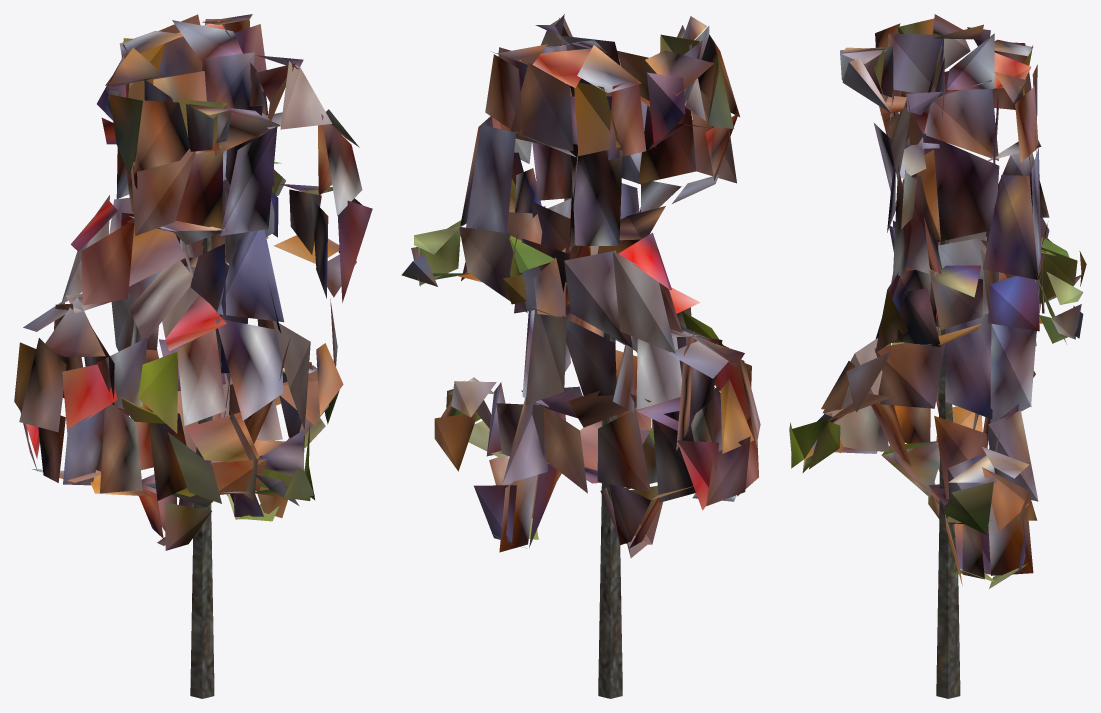
File: Tree11.fbx
3 renders of one model, left to right at view 1: azimuth 30°, elevation 25°; view 2: azimuth 150°, elevation 25°; view 3: azimuth 270°, elevation 25°, orthographic. The views are drawn at different scales.
Visible parts, largest first — view 1: Tree11; view 2: Tree11; view 3: Tree11.
Boxes of the visible parts, x1,y1,x2,y2 form: Tree11: (14, 14, 372, 698); Tree11: (401, 14, 760, 698); Tree11: (789, 14, 1086, 698).
Bounding box in the file's own units: 753 × 1547 × 635.
